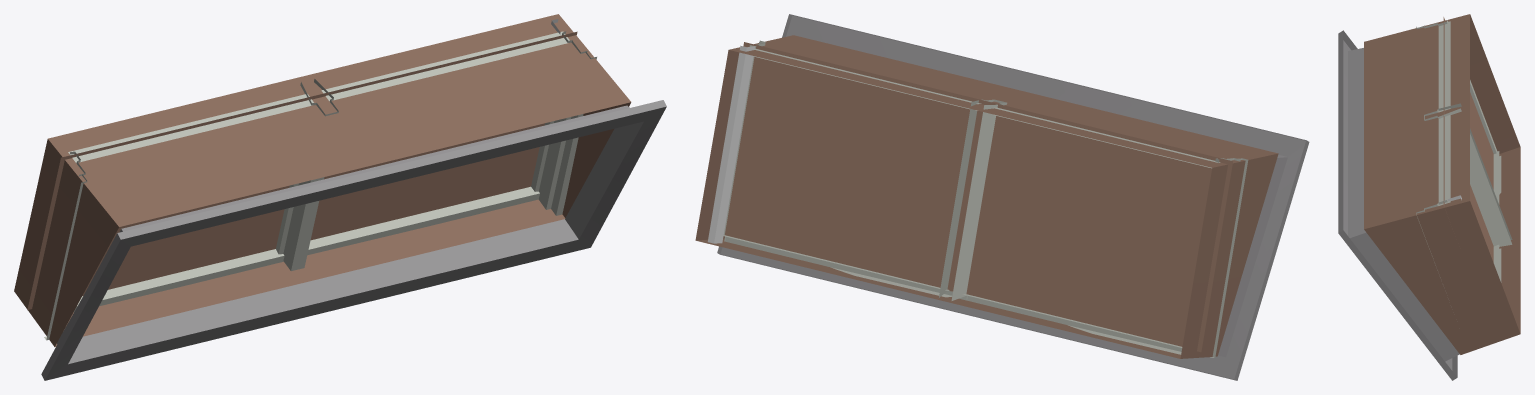
File: SM_H_Building_Tide_Jail_Ventilator_02_ATLAS.fbx
The picture shows the model from 3 angles, left to right: view 1: azimuth 30°, elevation 25°; view 2: azimuth 150°, elevation 25°; view 3: azimuth 270°, elevation 25°; orthographic projection. The views are drawn at different scales.
Visible parts, largest first — view 1: SM_H_Building_Tide_Jail_Ventilator_02_ATLAS; view 2: SM_H_Building_Tide_Jail_Ventilator_02_ATLAS; view 3: SM_H_Building_Tide_Jail_Ventilator_02_ATLAS.
Boxes of the visible parts, box(x1,y1,x2,y2) form: SM_H_Building_Tide_Jail_Ventilator_02_ATLAS: box(14, 14, 666, 380); SM_H_Building_Tide_Jail_Ventilator_02_ATLAS: box(695, 14, 1309, 380); SM_H_Building_Tide_Jail_Ventilator_02_ATLAS: box(1338, 14, 1520, 380).
Bounding box in the file's own units: 348 × 134 × 141.
